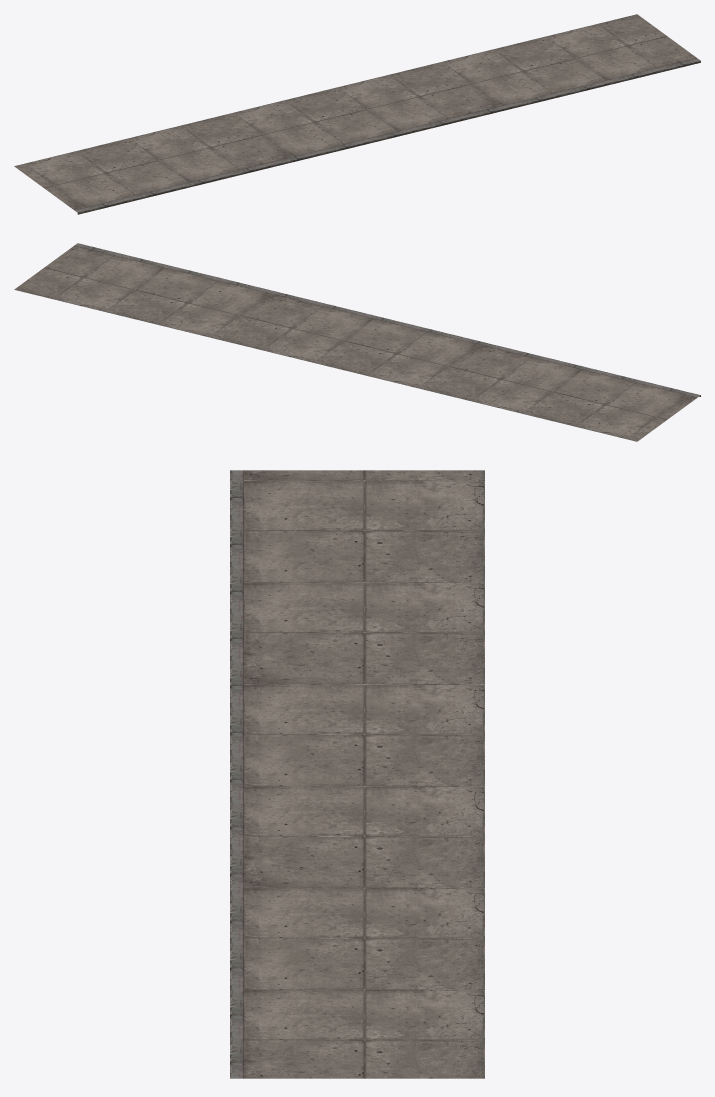
The model's file is Sidewalk.fbx.
3 renders of one model, top to bottom at view 1: azimuth 30°, elevation 25°; view 2: azimuth 150°, elevation 25°; view 3: azimuth 270°, elevation 25°, orthographic. The views are drawn at different scales.
Visible parts, largest first — view 1: Sidewalks; view 2: Sidewalks; view 3: Sidewalks.
Part boxes in pixels (x1=…): Sidewalks: x1=14, y1=14, x2=700, y2=214; Sidewalks: x1=14, y1=243, x2=700, y2=441; Sidewalks: x1=230, y1=470, x2=484, y2=1078.
Bounding box in the file's own units: 16525 × 48.65 × 2926.
Materials: 1 (1 with a texture image).
